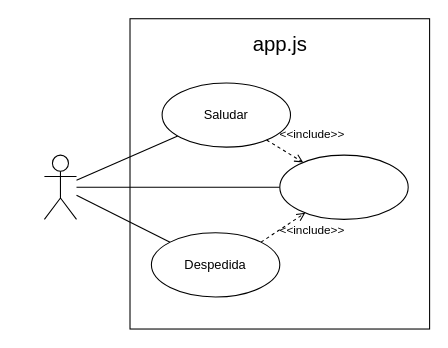
The diagram is 448 pixels wide and 348 high, and some of its shapes have lost their labels. The shapes that lost their labels are listed below. From the top down, each one's centre as x and y in pixels, then its label:
At pixel 60 186: "Otro programa".
At pixel 343 186: "Introducir nombre".
